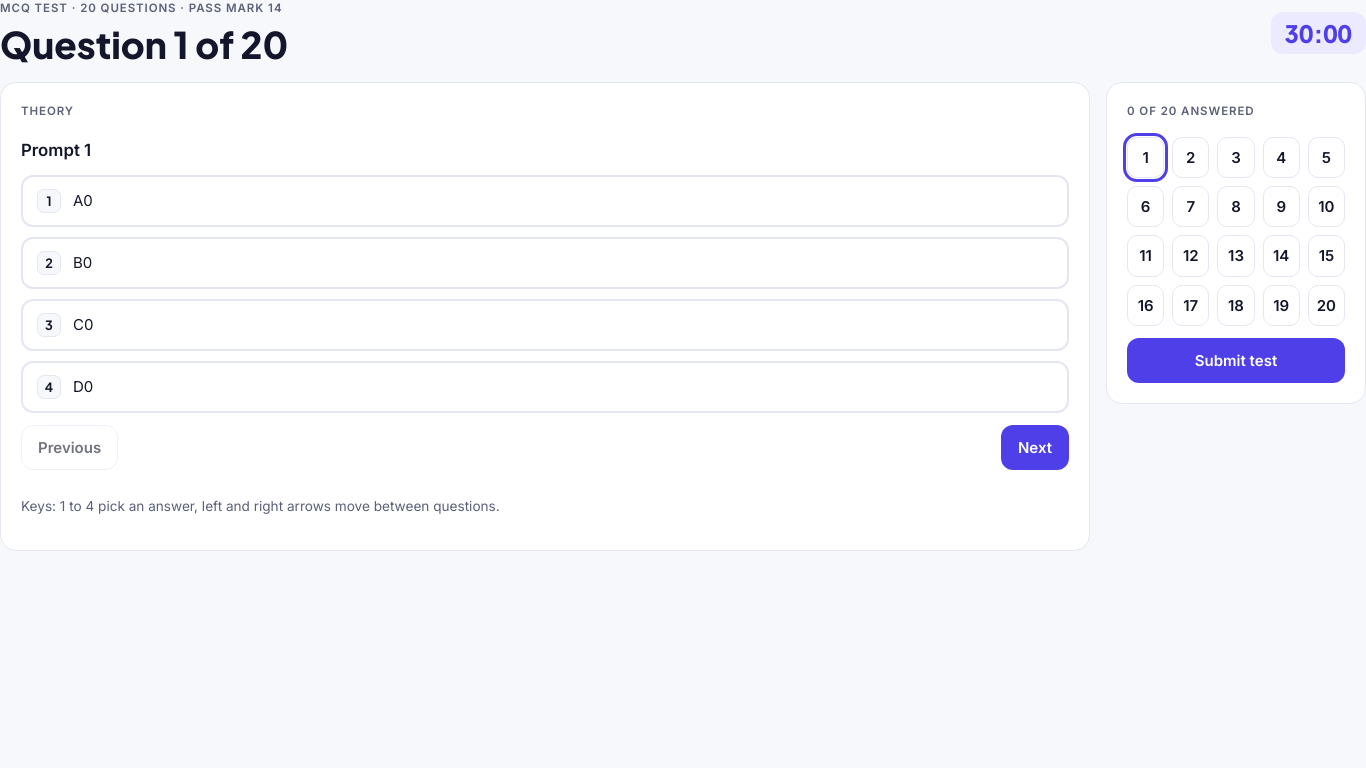
Test: submitting › shows the server message when the time was already up
This screenshot has width=1366, height=768.
Expected: the text "Prompt 1" is shown, [21, 140, 91, 160]
Click the button "Submit test".
click(1236, 360)  # box [1127, 338, 1345, 383]
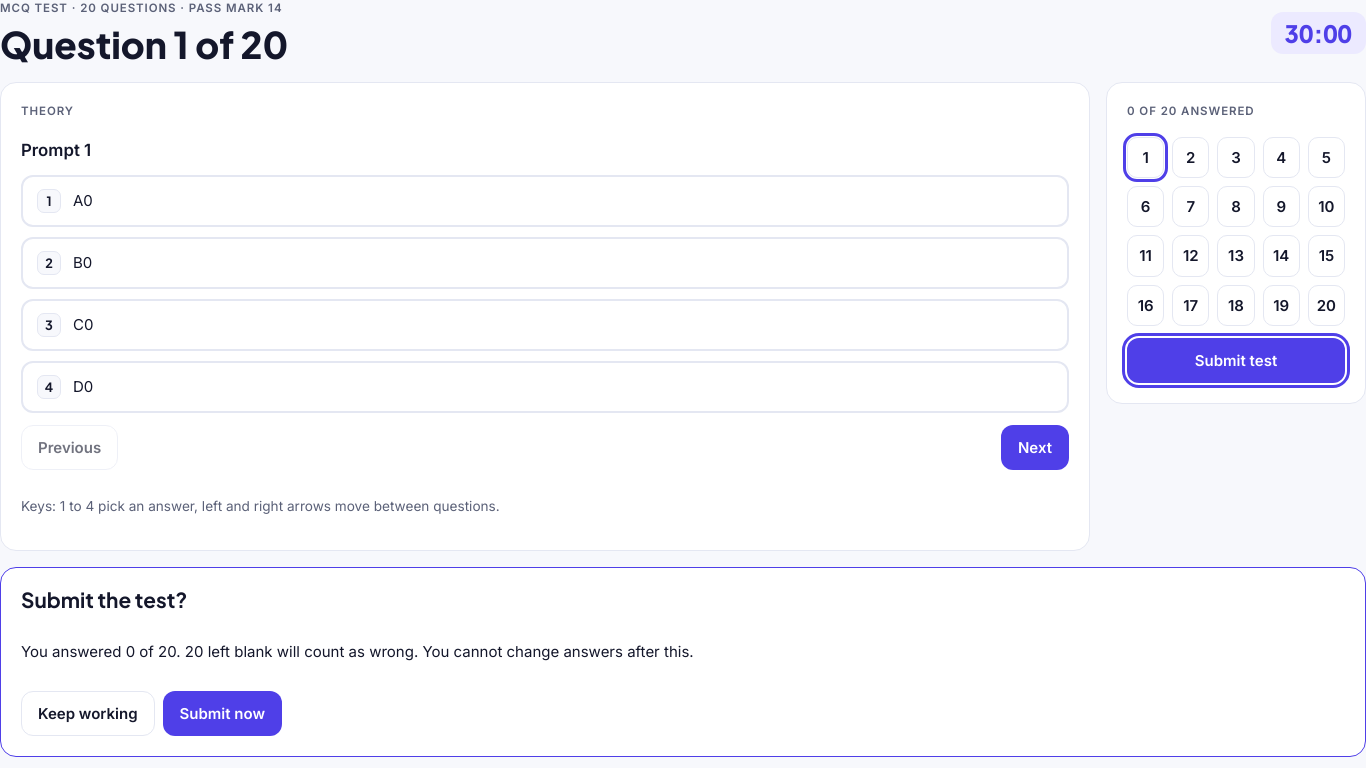
Click the button "Submit now".
click(222, 713)  # box [162, 691, 282, 736]
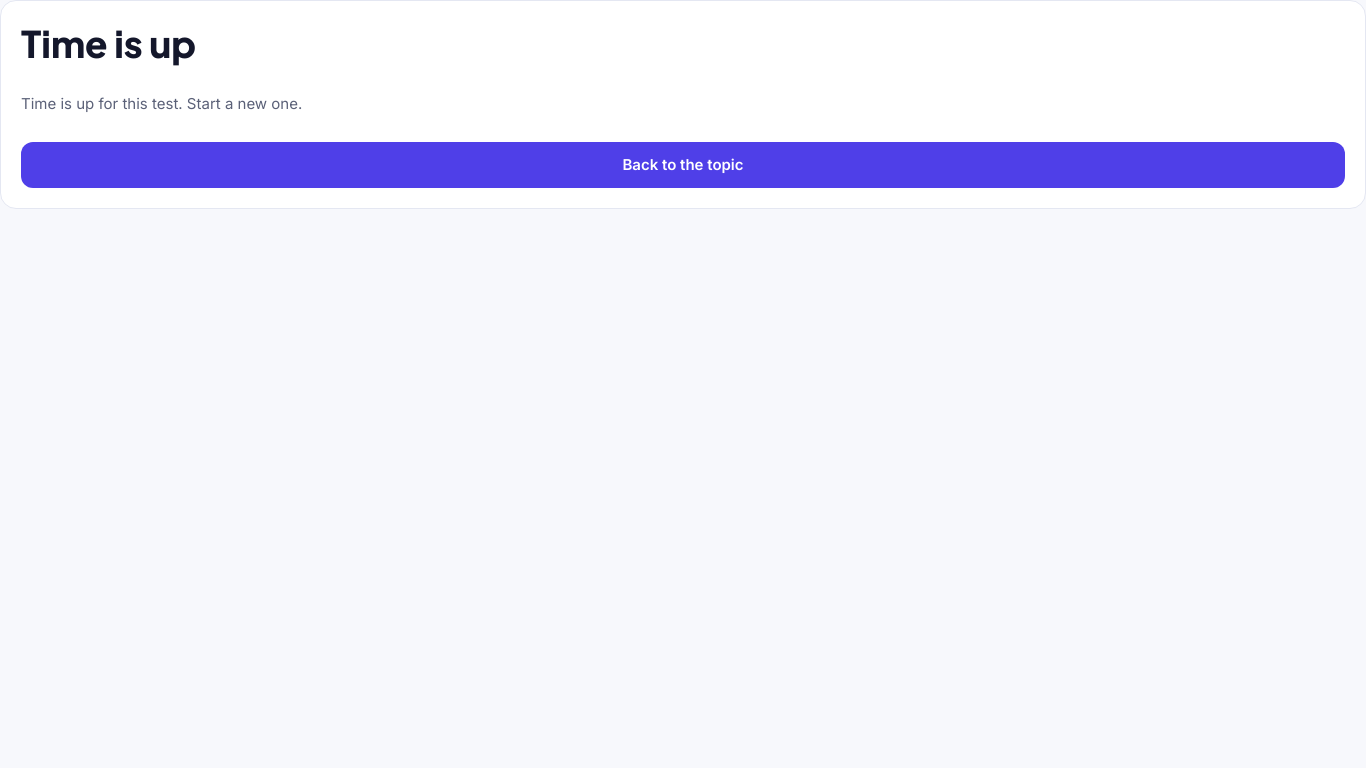
Expected: the heading "Time is up" is shown, [21, 20, 196, 66]
